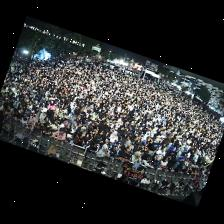person: (82, 141, 100, 162), (153, 147, 165, 166), (173, 152, 186, 169), (74, 133, 88, 147), (149, 138, 159, 156), (40, 122, 53, 135), (117, 148, 130, 161), (52, 128, 66, 140), (97, 145, 110, 157), (141, 154, 152, 167), (132, 142, 143, 155), (174, 161, 184, 174), (109, 131, 117, 147), (109, 145, 117, 160), (100, 137, 110, 149), (68, 121, 77, 134), (94, 130, 103, 143), (120, 135, 130, 146), (123, 127, 133, 138), (187, 165, 198, 175), (50, 113, 60, 124), (132, 152, 141, 164), (160, 157, 168, 170), (121, 141, 131, 151), (12, 110, 21, 121), (51, 120, 60, 131), (86, 129, 94, 141), (21, 113, 28, 126), (176, 148, 183, 161), (85, 115, 92, 127), (30, 111, 37, 123), (39, 110, 46, 122), (98, 120, 106, 130), (65, 134, 73, 144), (26, 120, 34, 130), (56, 108, 63, 119), (48, 100, 55, 111), (115, 119, 122, 129), (115, 141, 120, 155), (118, 175, 128, 182), (193, 151, 199, 162), (60, 120, 68, 128), (205, 156, 213, 164), (44, 117, 51, 126), (63, 123, 68, 134), (197, 168, 203, 176), (81, 127, 86, 136)
